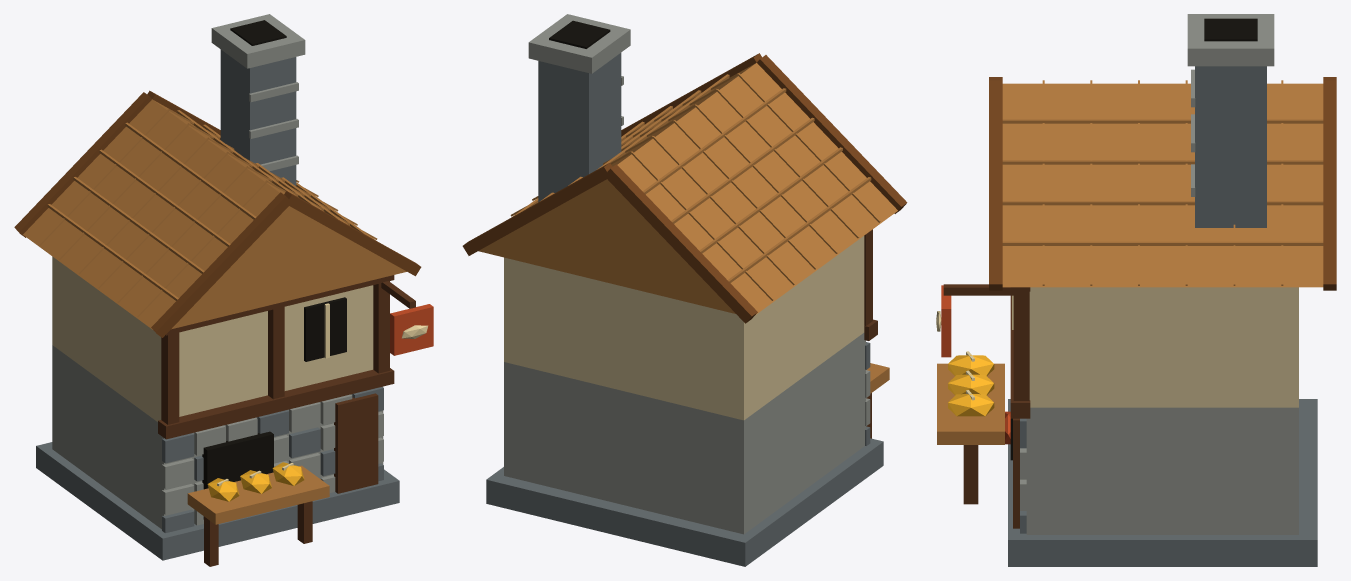
The model's file is bakery.glb.
3 renders of one model, left to right at view 1: azimuth 30°, elevation 25°; view 2: azimuth 150°, elevation 25°; view 3: azimuth 270°, elevation 25°, orthographic. The views are drawn at different scales.
Visible parts, largest first — view 1: Tile seam.002, Upper plaster, Chimney course.001, Masonry block, Counter legs.001, Bargeboard.003, Flue opening, Oven embers, Fresh loaf, Loaf score; view 2: Tile seam.002, Chimney course.001, Upper plaster, Masonry block, Bargeboard.003, Counter legs.001, Flue opening; view 3: Tile seam.002, Chimney course.001, Upper plaster, Masonry block, Bargeboard.003, Counter legs.001, Fresh loaf, Flue opening, Oven embers.
Boxes of the visible parts, box(x1,y1,x2,y2) form: Tile seam.002: box(23, 99, 406, 524); Upper plaster: box(52, 256, 373, 421); Chimney course.001: box(52, 14, 383, 529); Masonry block: box(36, 49, 399, 560); Counter legs.001: box(158, 275, 415, 566); Bargeboard.003: box(14, 90, 421, 337); Flue opening: box(202, 20, 346, 519); Oven embers: box(390, 304, 433, 355); Fresh loaf: box(207, 462, 304, 501); Loaf score: box(217, 303, 427, 486); Tile seam.002: box(478, 63, 897, 393); Chimney course.001: box(504, 14, 870, 534); Upper plaster: box(504, 236, 864, 420); Masonry block: box(486, 53, 883, 566); Bargeboard.003: box(462, 53, 907, 323); Counter legs.001: box(864, 229, 877, 438); Flue opening: box(549, 20, 610, 48); Tile seam.002: box(937, 80, 1323, 444); Chimney course.001: box(1020, 14, 1298, 534); Upper plaster: box(1029, 287, 1298, 407); Masonry block: box(1008, 66, 1317, 566); Bargeboard.003: box(989, 77, 1336, 290); Counter legs.001: box(943, 284, 1030, 528); Fresh loaf: box(948, 355, 994, 416); Flue opening: box(1010, 18, 1257, 460); Oven embers: box(941, 285, 1010, 444).
Bounding box in the file's own units: 3.02 × 4.53 × 3.24.
